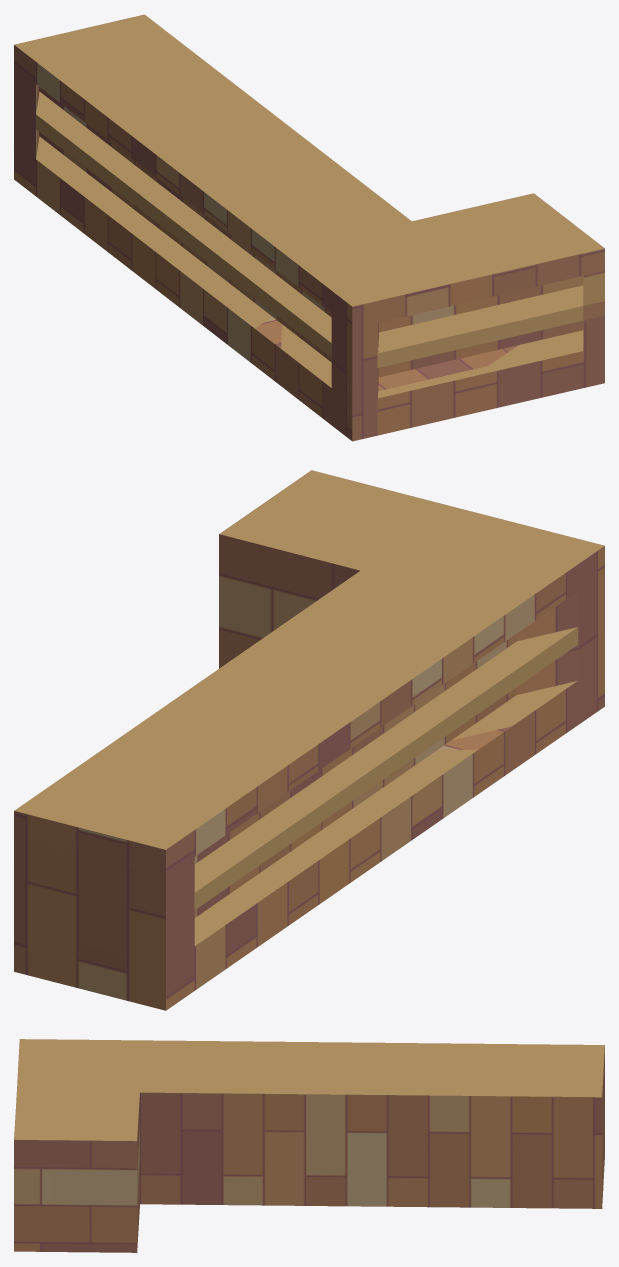
File: MejaKasir.fbx
3 views of the same model, one above another, from view 1: azimuth 30°, elevation 25°; view 2: azimuth 150°, elevation 25°; view 3: azimuth 270°, elevation 25° (orthographic). The views are drawn at different scales.
Parts seen in each view (by area): view 1: KasirMerch; view 2: KasirMerch; view 3: KasirMerch.
Boxes of the visible parts, x1,y1,x2,y2 form: KasirMerch: (14, 14, 604, 441); KasirMerch: (14, 470, 604, 1010); KasirMerch: (14, 1039, 604, 1252).
Bounding box in the file's own units: 310 × 158 × 759.
